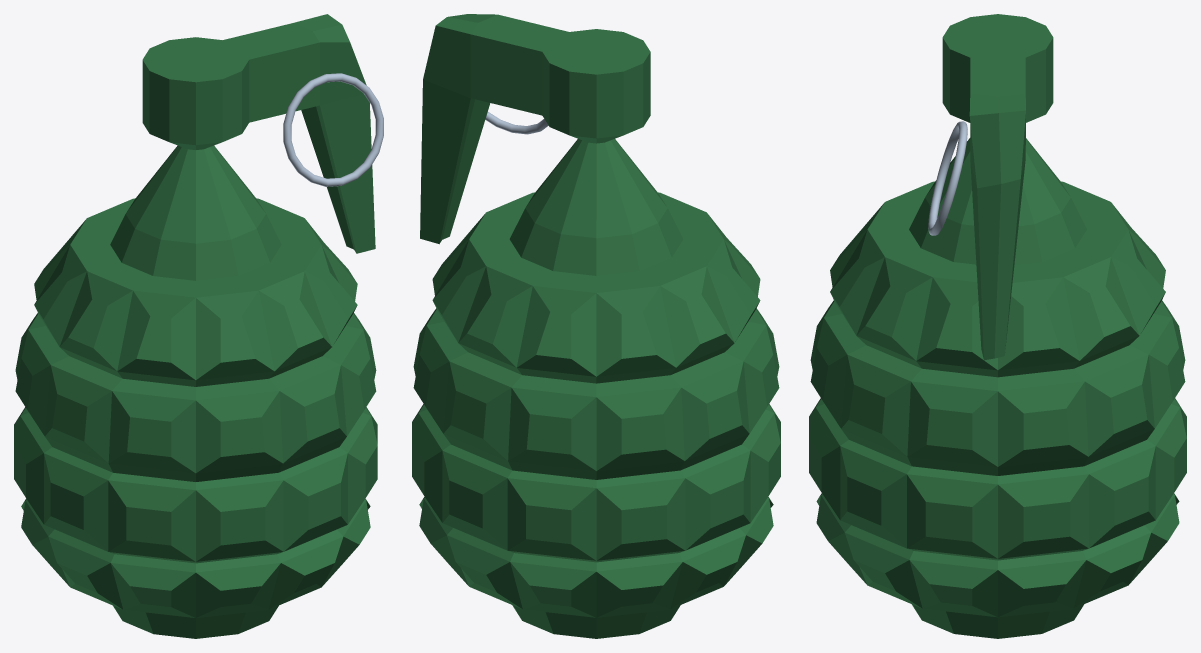
Rendered from Granade.fbx.
3 renders of one model, left to right at view 1: azimuth 30°, elevation 25°; view 2: azimuth 150°, elevation 25°; view 3: azimuth 270°, elevation 25°, orthographic. The views are drawn at different scales.
Visible parts, largest first — view 1: Cylinder.007, Torus.001; view 2: Cylinder.007, Torus.001; view 3: Cylinder.007, Torus.001.
Part boxes in pixels (x1,y1,x2,y2): Cylinder.007: (14,14,377,638); Torus.001: (283,73,383,186); Cylinder.007: (412,14,780,638); Torus.001: (485,111,548,134); Cylinder.007: (809,14,1186,638); Torus.001: (928,121,967,235).
Bounding box in the file's own units: 157 × 246 × 149.
